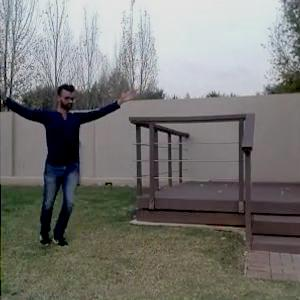takeoff: (2, 83, 144, 242)
